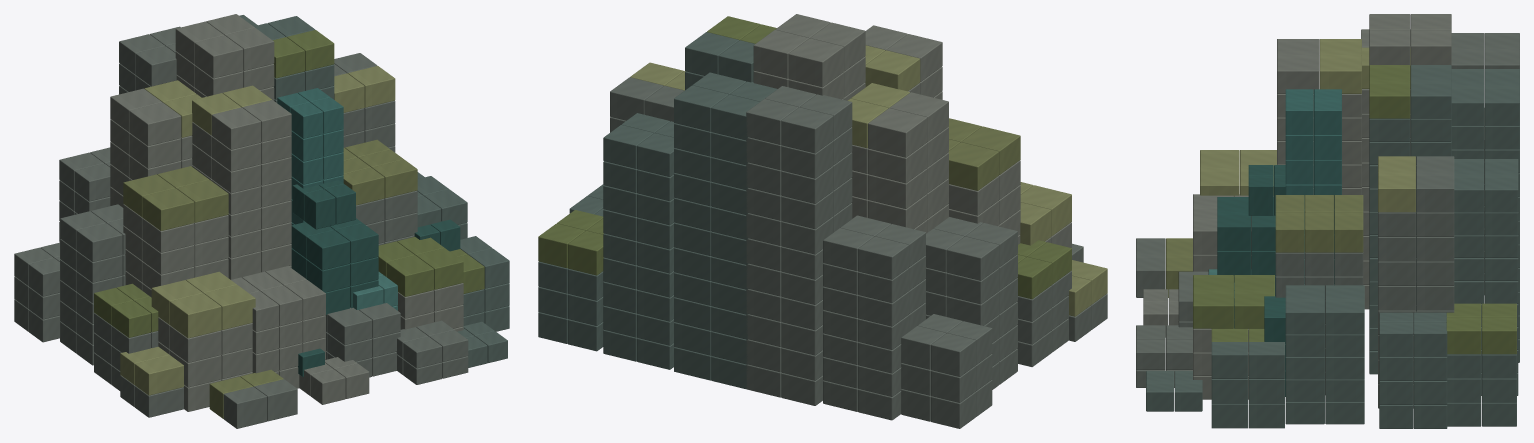
File: SM_Blender_MossRock.glb
3 renders of one model, left to right at view 1: azimuth 30°, elevation 25°; view 2: azimuth 150°, elevation 25°; view 3: azimuth 270°, elevation 25°, orthographic. The views are drawn at different scales.
Visible parts, largest first — view 1: SM_Blender_MossRock; view 2: SM_Blender_MossRock; view 3: SM_Blender_MossRock.
Part boxes in pixels (box(x1,y1,x2,y2)): SM_Blender_MossRock: box(14, 14, 509, 428); SM_Blender_MossRock: box(538, 14, 1107, 428); SM_Blender_MossRock: box(1136, 14, 1519, 428).
Size of the model in its own units: 1.74 by 1.24 by 1.46.
1 material, 1 textured.
